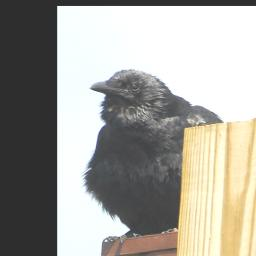Crow: (80, 68, 221, 242)
